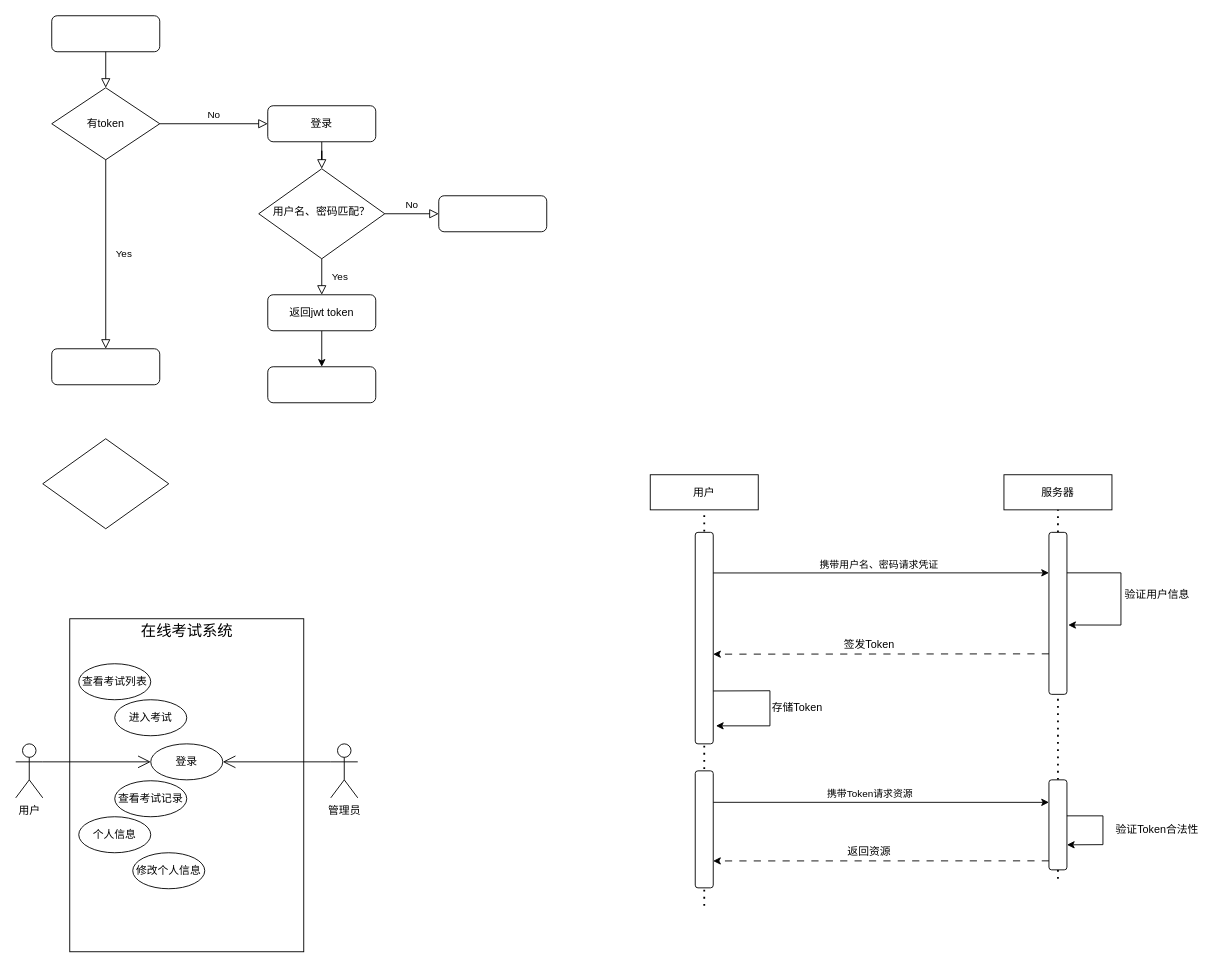
Image size: 1227x968. Some labels were removed from this diagram. Each missing label, with the centre of its shape:
"客户端发送请求" goes at (105,33).
"客户端存储jwt token" goes at (321,384).
"服务器验证Token" goes at (105,483).
"请求中携带Token" goes at (105,366).
"返回错误信息" goes at (492,213).
